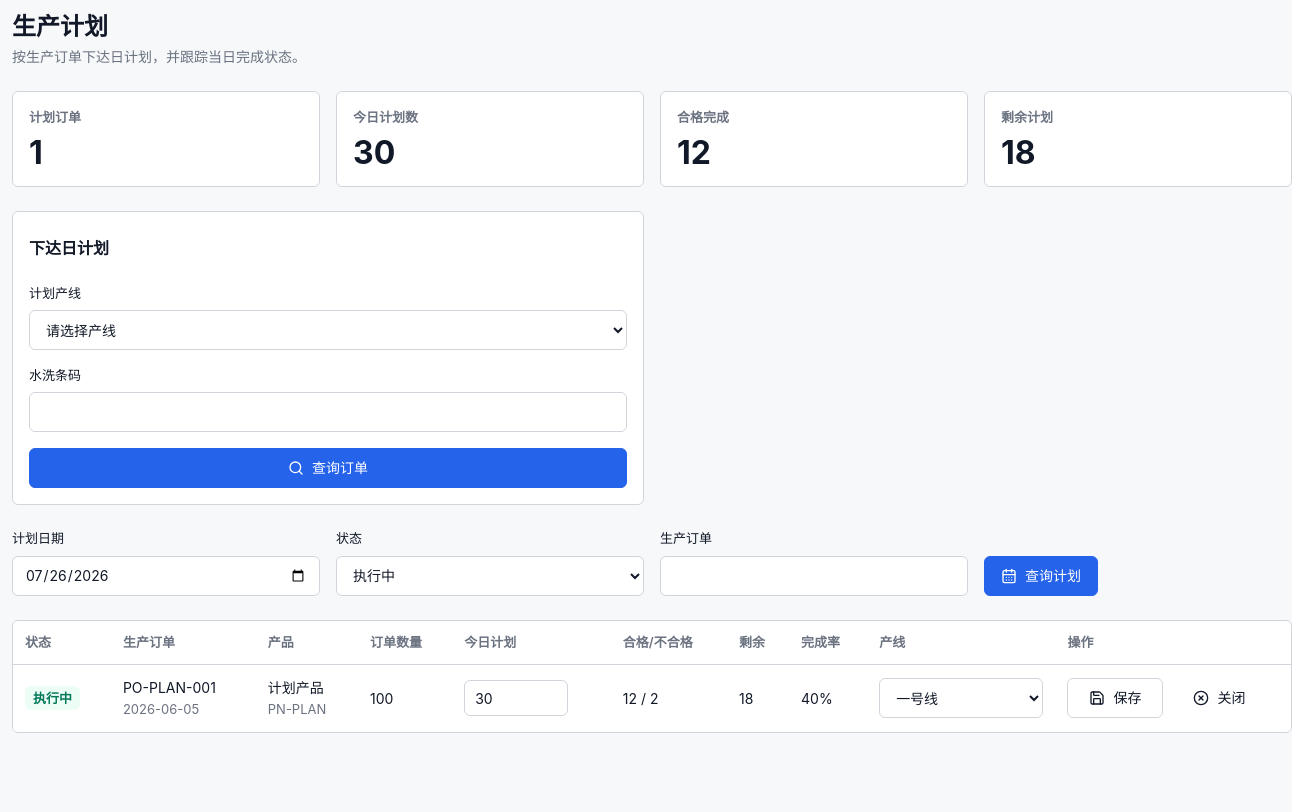
Scenario: ProductionPlanPage › looks up a production order and creates a daily plan
Step 1. Type "SHUIXI-001" into the field labelled "水洗条码" → (328, 412), box [29, 392, 627, 432]
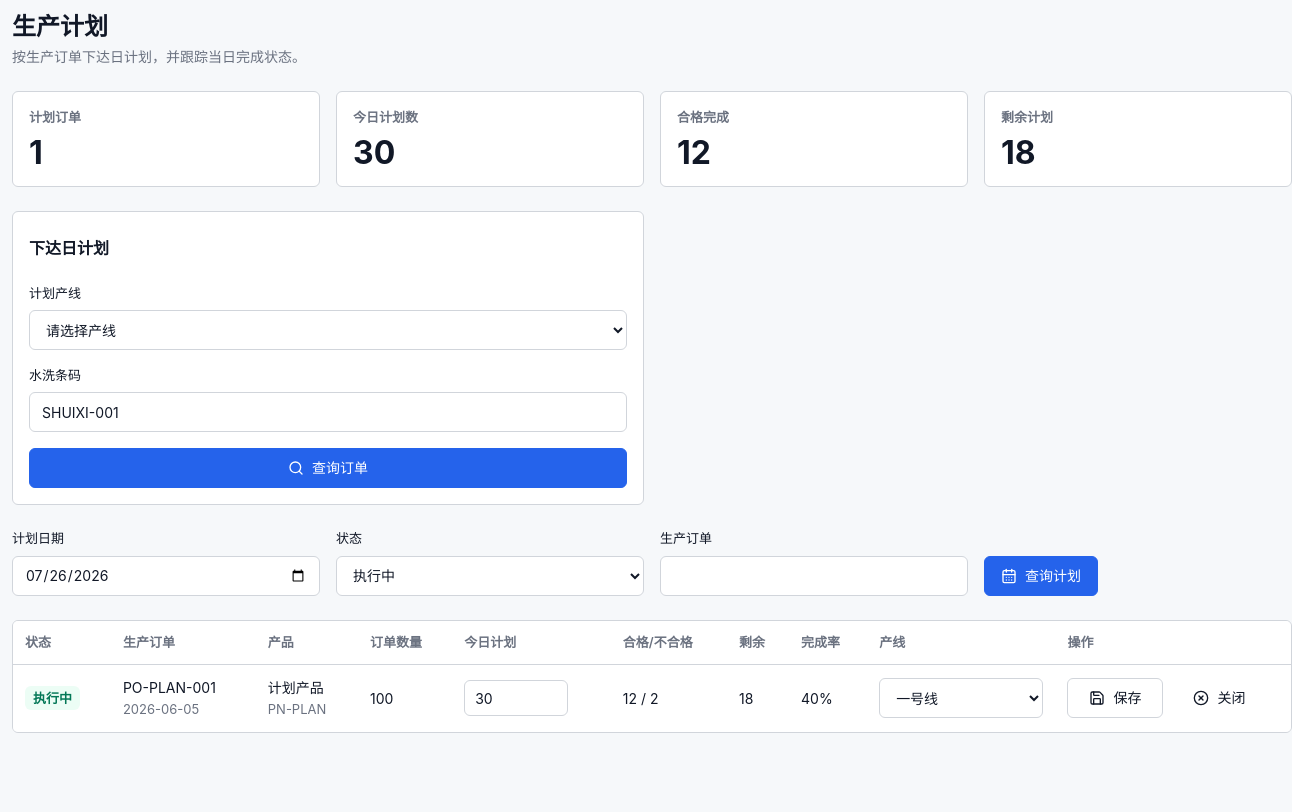
Step 2. Select "二号线" in the dropdown labelled "计划产线" → (328, 330), box [29, 310, 627, 350]
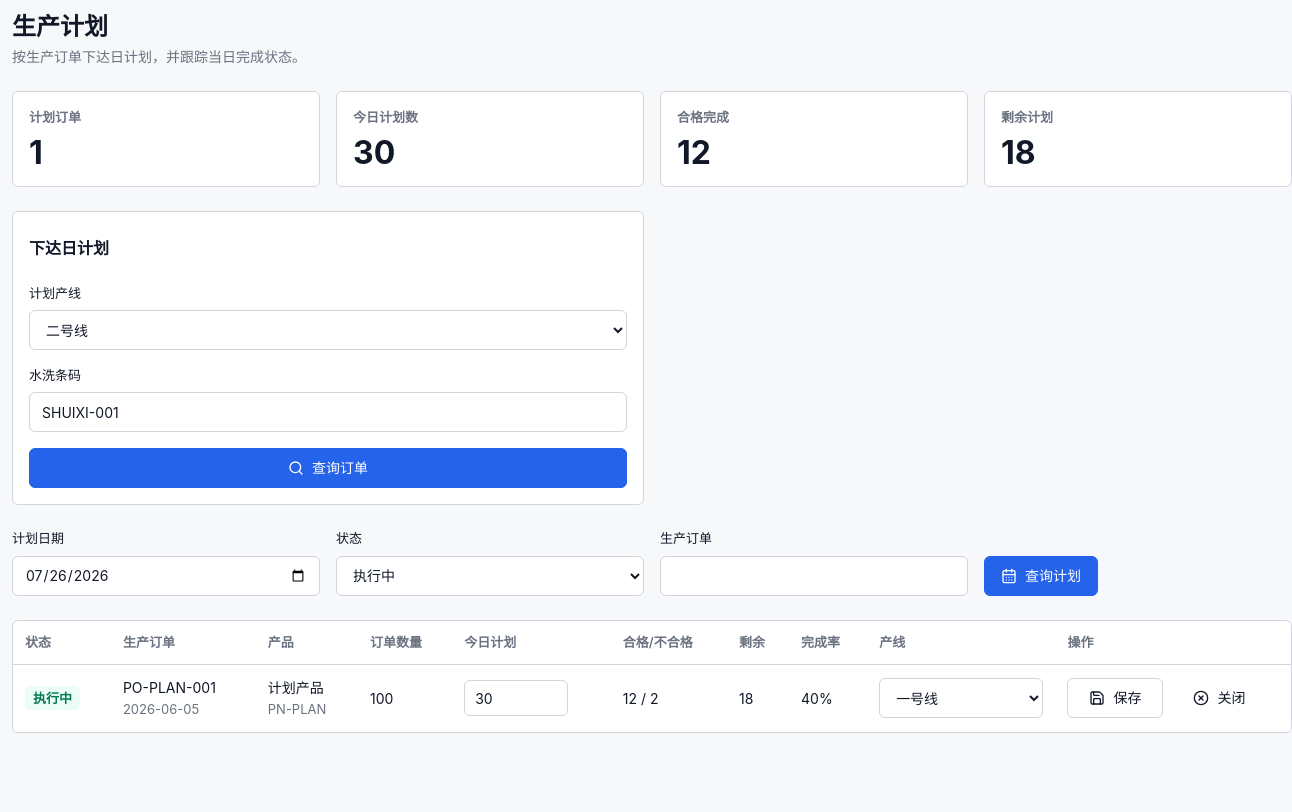
Step 3. Click the button "查询订单" → (328, 468), box [29, 448, 627, 488]
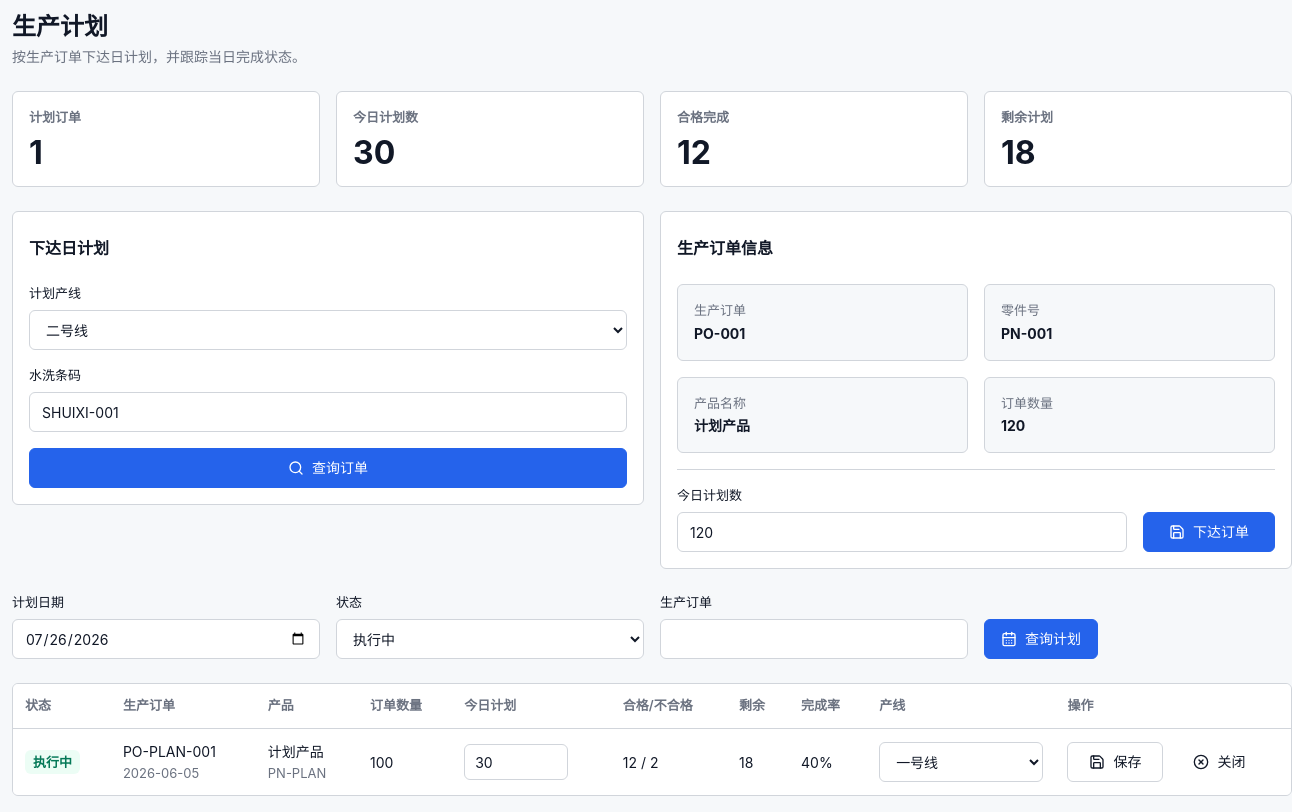
expect the text "PO-001" is shown: met, box [694, 324, 745, 342]
Step 4. Replace the text in the number field labelled "今日计划数" with "80" → (902, 532), box [677, 512, 1127, 552]
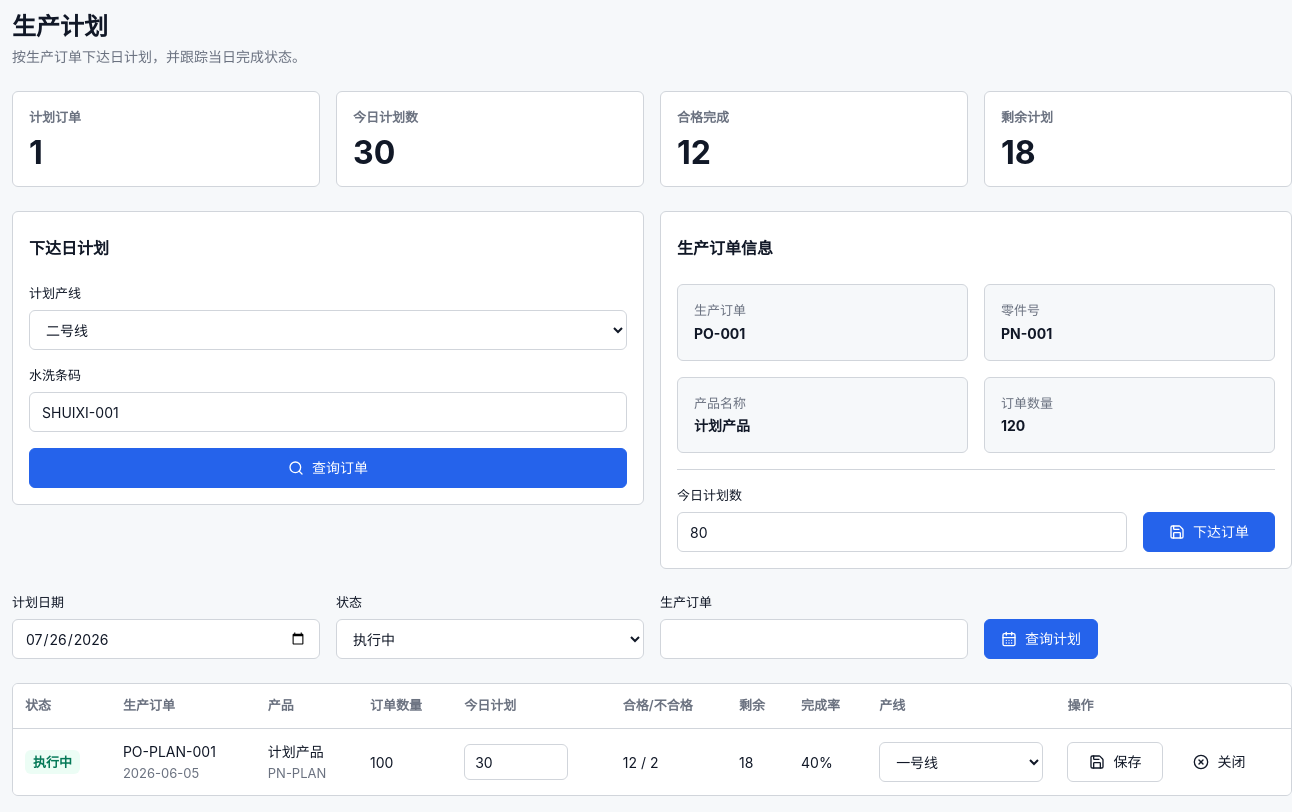
Step 5. Click the button "下达订单" → (1209, 532), box [1143, 512, 1275, 552]
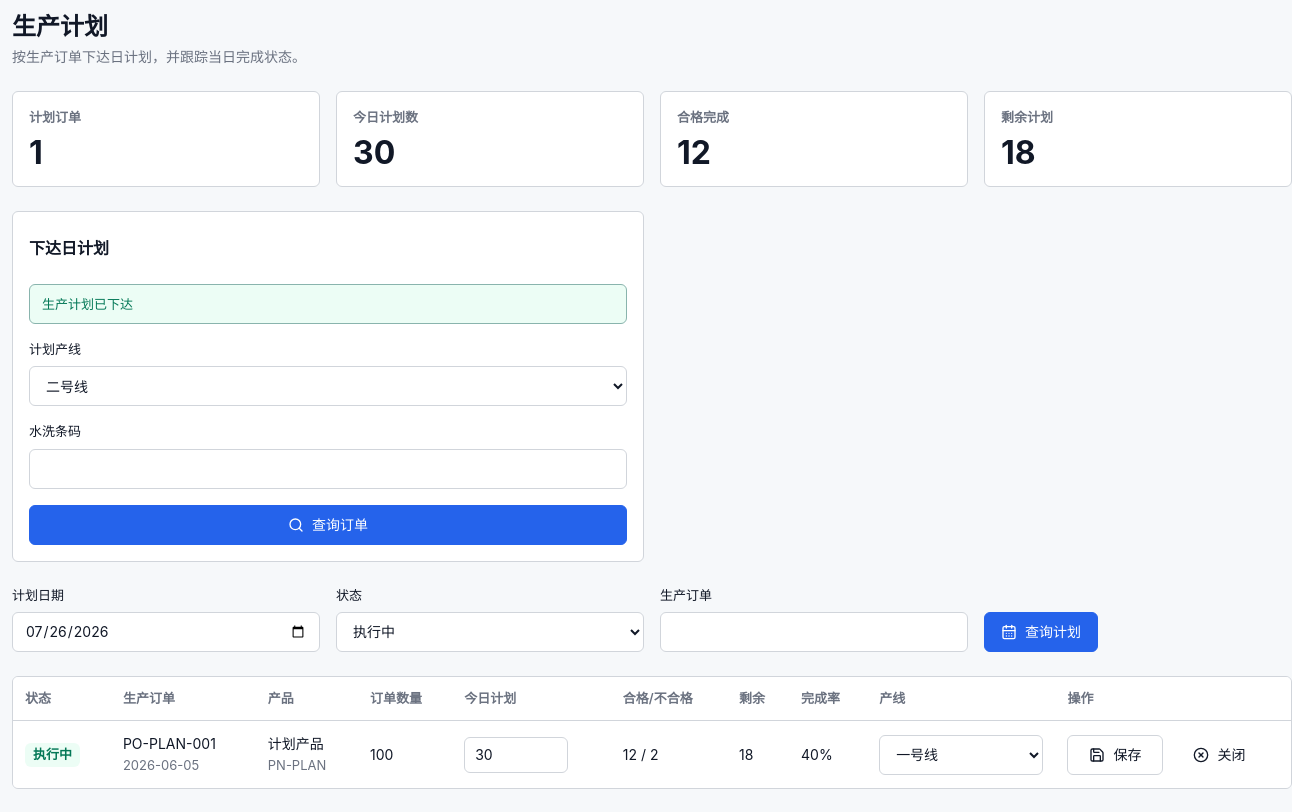
expect the text "生产计划已下达" is shown: met, box [29, 284, 627, 324]
